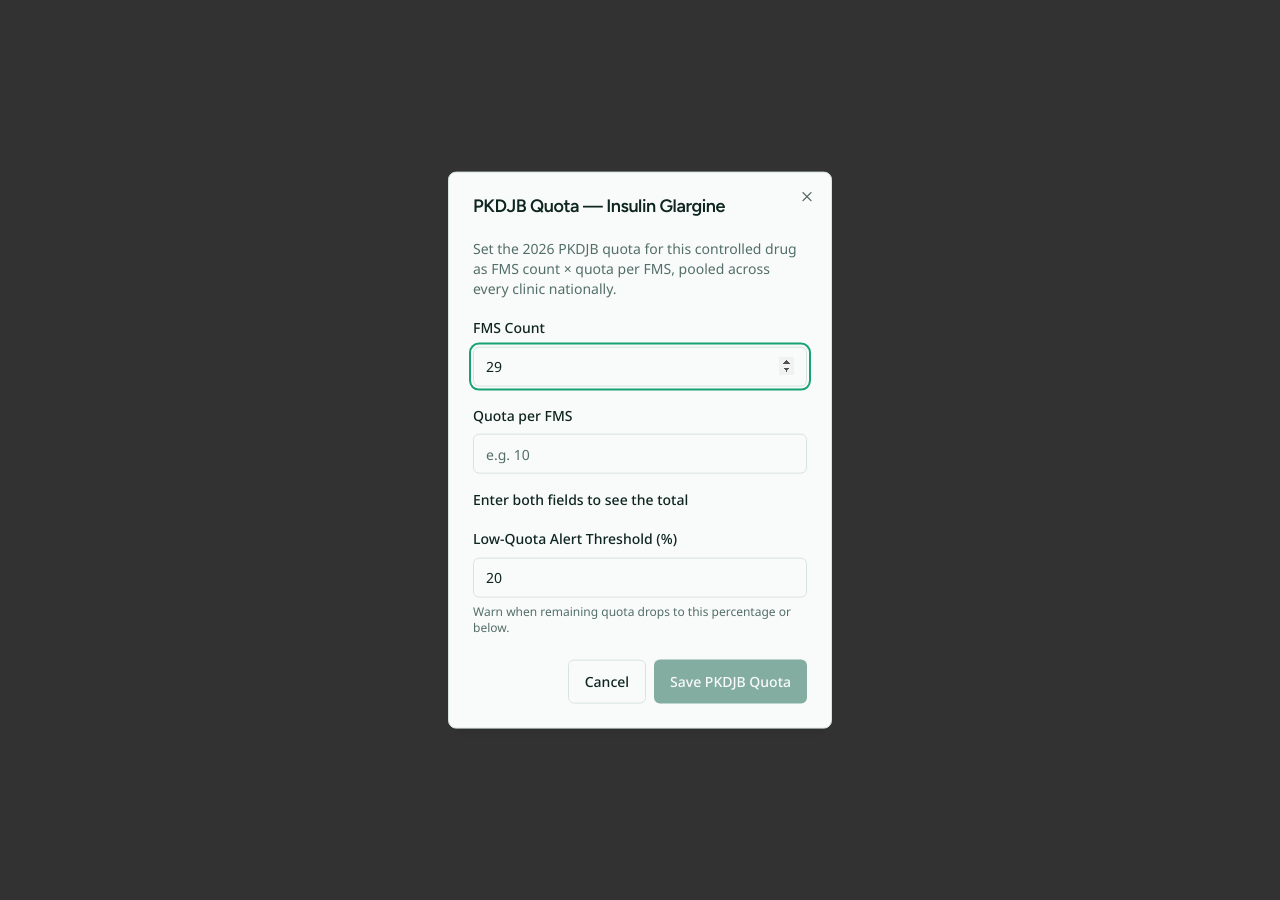
Test: NationalQuotaDialog › computes and displays the live total as FMS count x quota per FMS change
The width and height of the screenshot is (1280, 900).
Step 1. Type "10" into the number field labelled "Quota per FMS" → (640, 454), box x1=473 y1=434 x2=807 y2=474
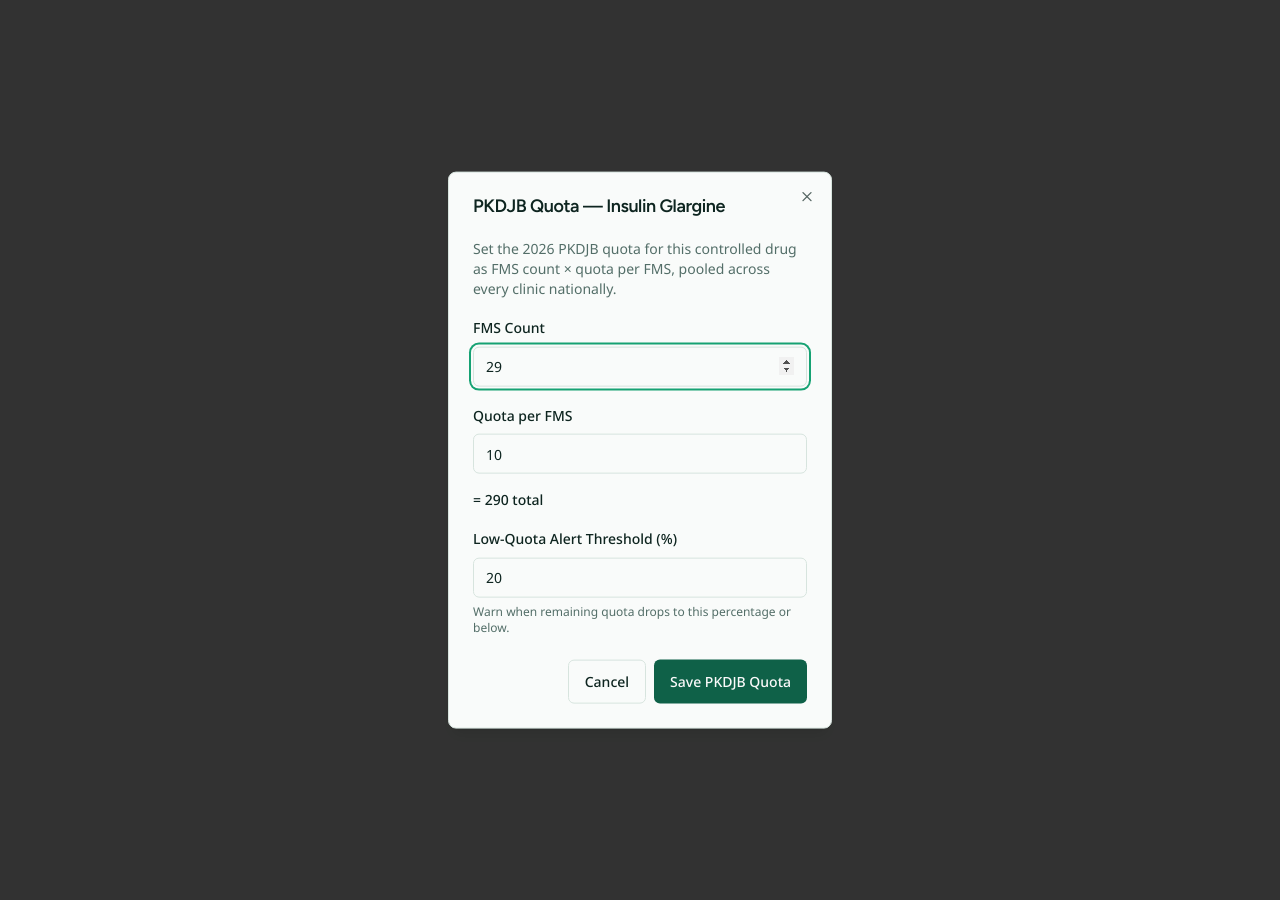
Result: the text "= 290 total" is shown at x1=473 y1=490 x2=543 y2=509
Step 2. Replace the text in the number field labelled "FMS Count" with "5" → (640, 366), box x1=473 y1=346 x2=807 y2=386
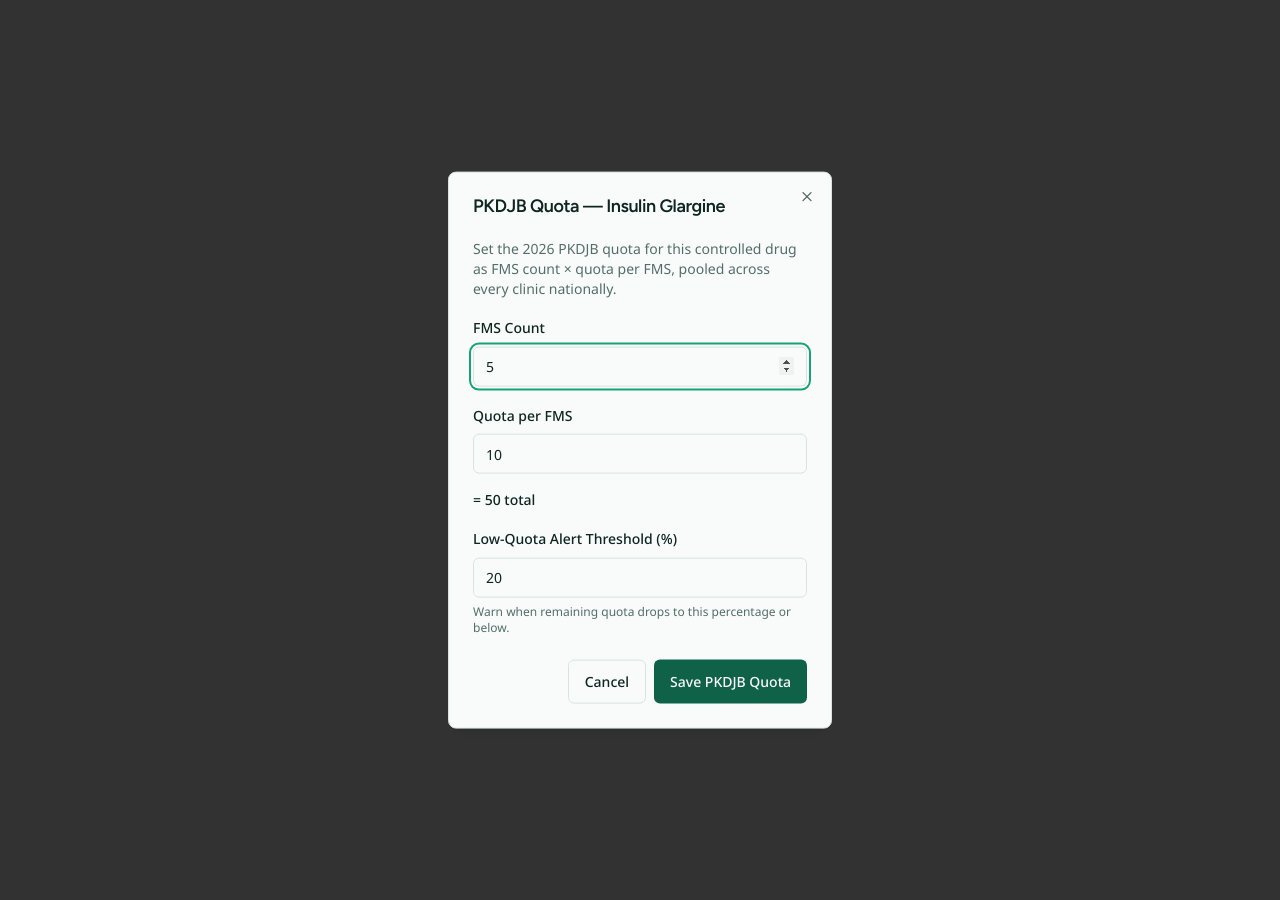
Result: the text "= 50 total" is shown at x1=473 y1=490 x2=535 y2=509
